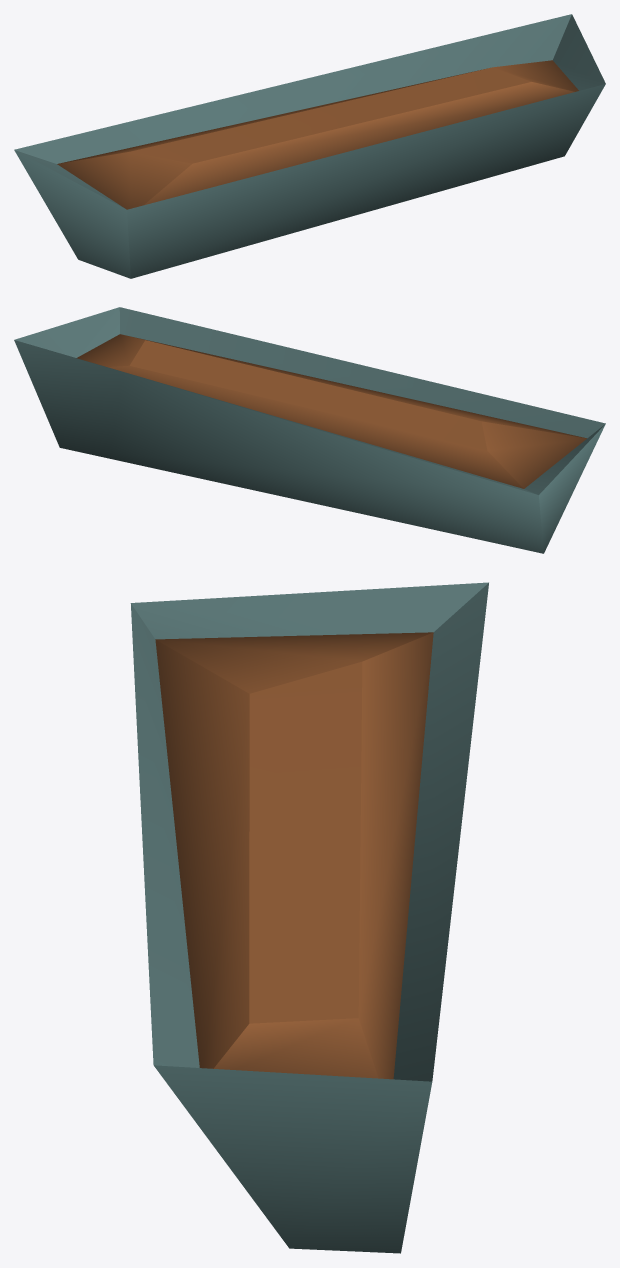
Rendered from c_deco_vase_rectangle_ac.fbx.
3 views of the same model, one above another, from view 1: azimuth 30°, elevation 25°; view 2: azimuth 150°, elevation 25°; view 3: azimuth 270°, elevation 25° (orthographic). The views are drawn at different scales.
Parts seen in each view (by area): view 1: c_deco_vase_rectangle_ac; view 2: c_deco_vase_rectangle_ac; view 3: c_deco_vase_rectangle_ac.
Boxes of the visible parts, x1,y1,x2,y2 form: c_deco_vase_rectangle_ac: (14, 14, 605, 278); c_deco_vase_rectangle_ac: (14, 307, 605, 553); c_deco_vase_rectangle_ac: (130, 582, 488, 1253).
Bounding box in the file's own units: 2.07 × 0.3831 × 0.5959.
